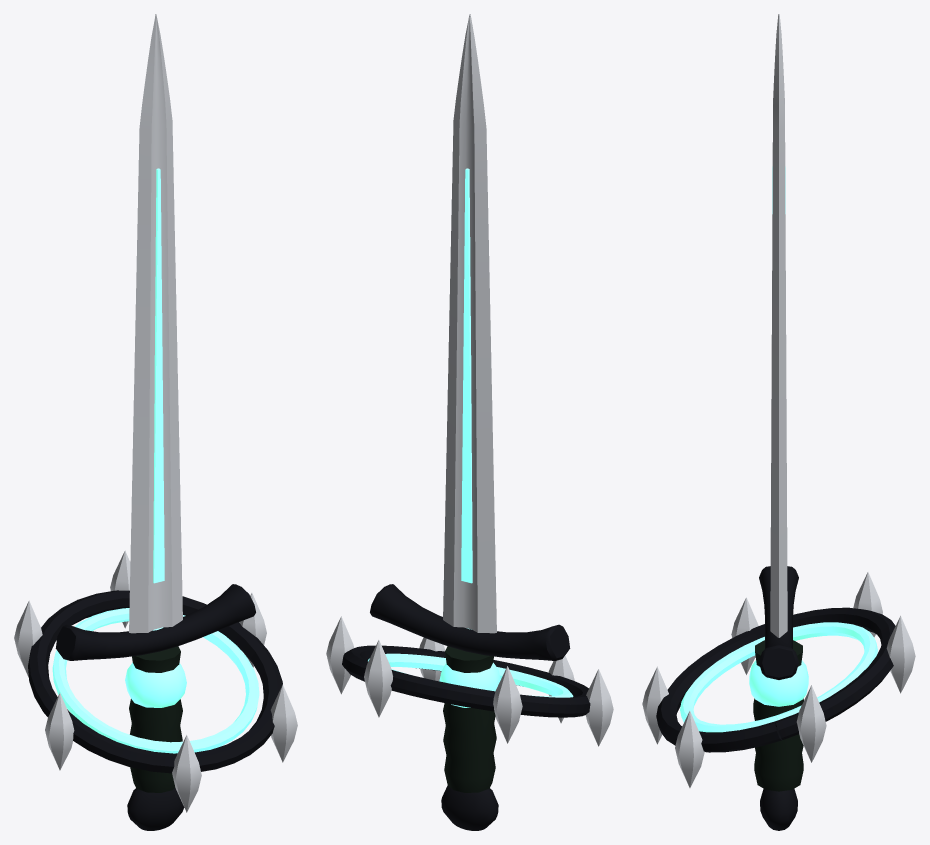
Rendered from esc_w_ranger_dagger_9.glb.
3 renders of one model, left to right at view 1: azimuth 30°, elevation 25°; view 2: azimuth 150°, elevation 25°; view 3: azimuth 270°, elevation 25°, orthographic.
Parts seen in each view (by area): view 1: esc_w_ranger_dagger_9; view 2: esc_w_ranger_dagger_9; view 3: esc_w_ranger_dagger_9.
Part boxes in pixels (x1,y1,x2,y2): esc_w_ranger_dagger_9: (14, 14, 297, 830); esc_w_ranger_dagger_9: (326, 14, 613, 830); esc_w_ranger_dagger_9: (642, 14, 915, 830).
Size of the model in its own units: 0.1671 by 0.5182 by 0.1581.
